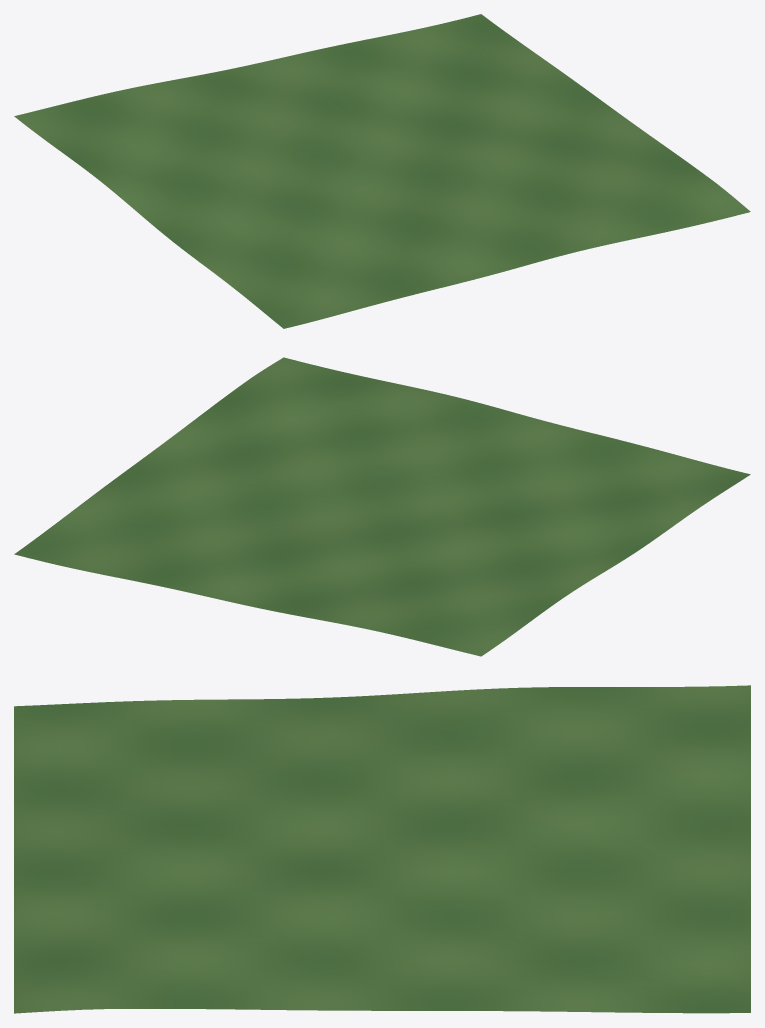
The model's file is chunk_5_1.glb.
3 renders of one model, top to bottom at view 1: azimuth 30°, elevation 25°; view 2: azimuth 150°, elevation 25°; view 3: azimuth 270°, elevation 25°, orthographic. The views are drawn at different scales.
Size of the model in its own units: 512 by 16.28 by 512.
